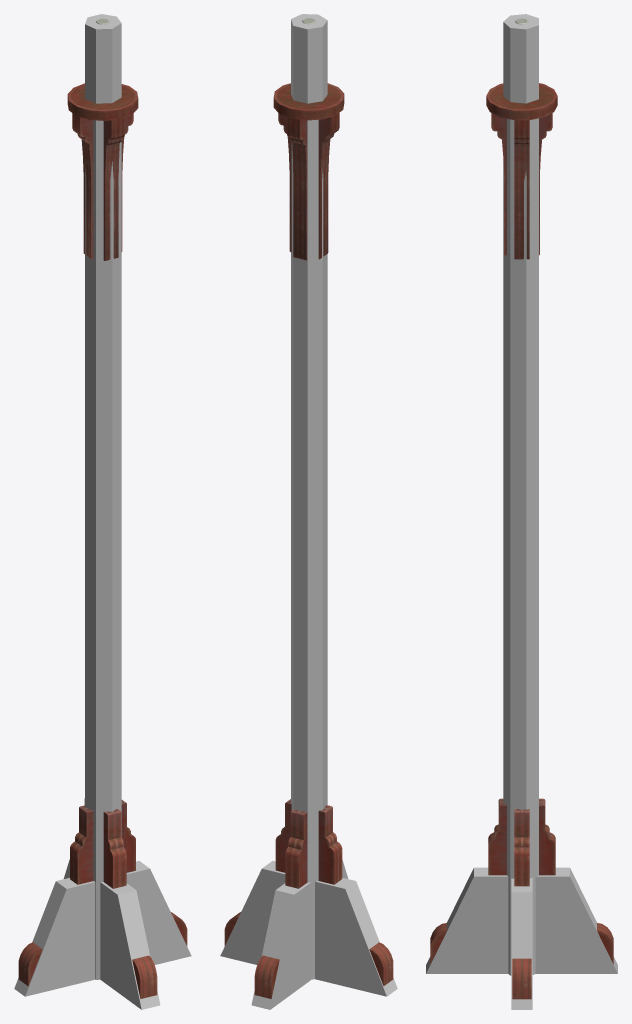
The model's file is SM_Tall_Candle_Stand_01.fbx.
The picture shows the model from 3 angles, left to right: view 1: azimuth 30°, elevation 25°; view 2: azimuth 150°, elevation 25°; view 3: azimuth 270°, elevation 25°; orthographic projection.
Parts seen in each view (by area): view 1: SM_Tall_Candle_Stand_01_ConvexHulls, SM_Tall_Candle_Stand_01; view 2: SM_Tall_Candle_Stand_01_ConvexHulls, SM_Tall_Candle_Stand_01; view 3: SM_Tall_Candle_Stand_01_ConvexHulls, SM_Tall_Candle_Stand_01.
Part boxes in pixels (x1,y1,x2,y2): SM_Tall_Candle_Stand_01_ConvexHulls: (14, 14, 191, 1009); SM_Tall_Candle_Stand_01: (18, 18, 187, 998); SM_Tall_Candle_Stand_01_ConvexHulls: (220, 14, 397, 1009); SM_Tall_Candle_Stand_01: (224, 18, 393, 998); SM_Tall_Candle_Stand_01_ConvexHulls: (426, 14, 617, 1009); SM_Tall_Candle_Stand_01: (430, 18, 613, 999).
Bounding box in the file's own units: 48.11 × 48.11 × 263.
2 materials, 1 textured.
